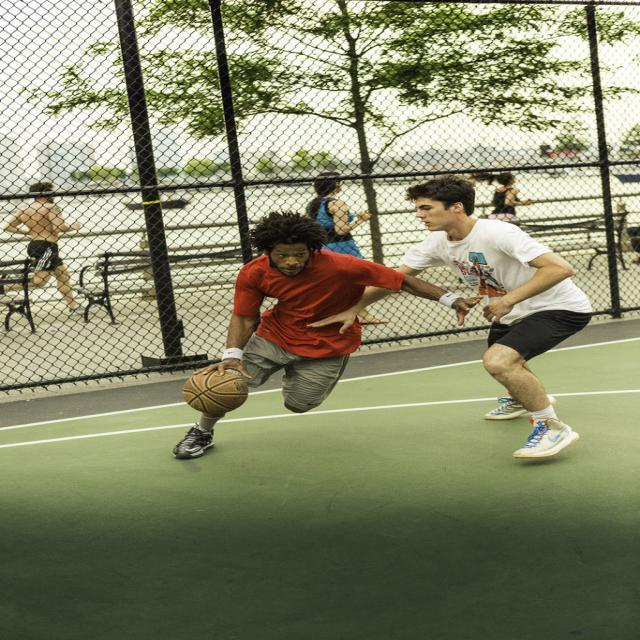football: (176, 347, 258, 417)
